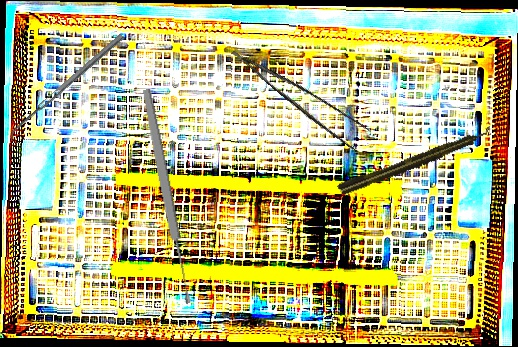Handpiece: (336, 124, 495, 198)
Spatula Surgical: (5, 33, 129, 143)
Surgical Spoon: (139, 88, 195, 305)
Tissue Forceps: (231, 30, 375, 158)
